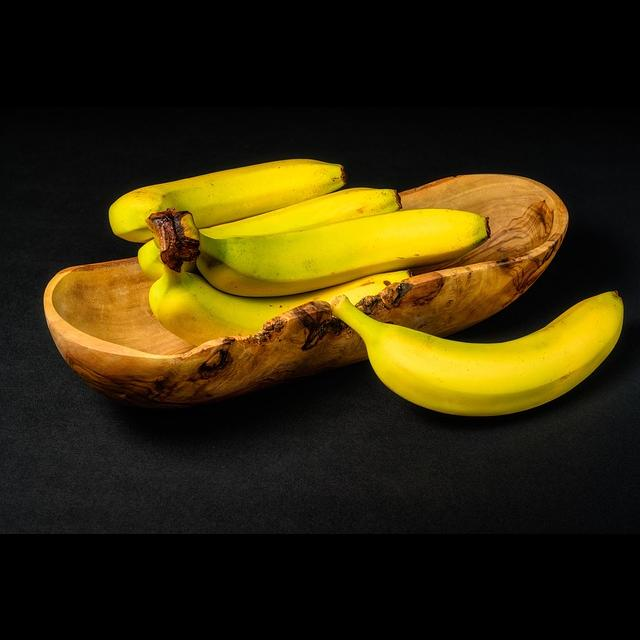apple: (351, 291, 638, 419), (137, 263, 434, 347), (204, 211, 501, 286), (88, 144, 367, 223), (143, 183, 415, 262), (487, 242, 540, 247)
